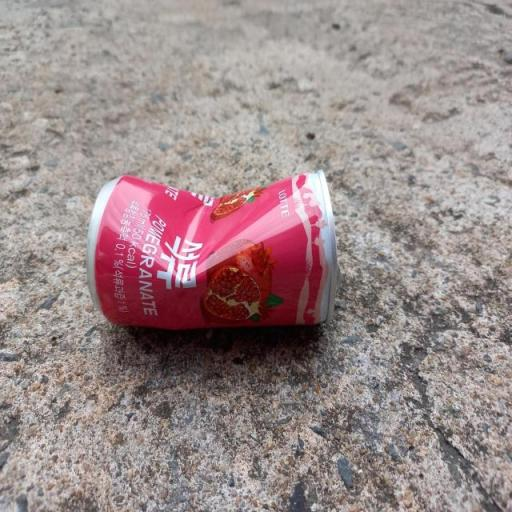metal: (26, 116, 392, 370)
